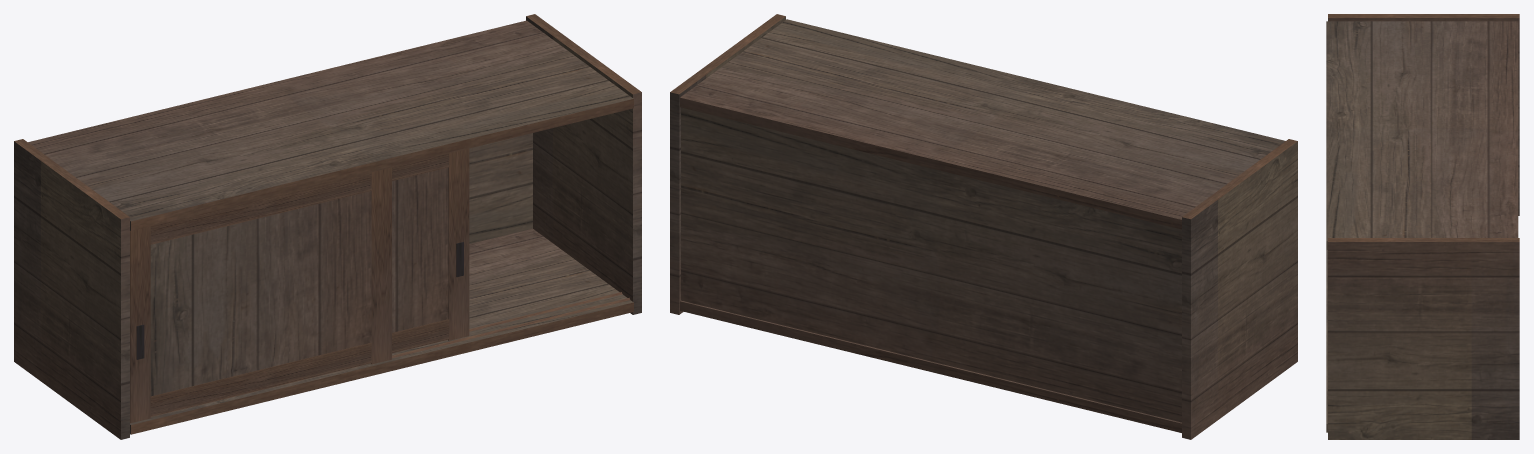
The model's file is jov_shelf04a.fbx.
The picture shows the model from 3 angles, left to right: view 1: azimuth 30°, elevation 25°; view 2: azimuth 150°, elevation 25°; view 3: azimuth 270°, elevation 25°; orthographic projection. The views are drawn at different scales.
Visible parts, largest first — view 1: jov_shelf04a; view 2: jov_shelf04a; view 3: jov_shelf04a.
Boxes of the visible parts, left/top/right/bottom form: jov_shelf04a: left=14, top=14, right=641, bottom=439; jov_shelf04a: left=670, top=14, right=1297, bottom=439; jov_shelf04a: left=1326, top=14, right=1519, bottom=439.
Bounding box in the file's own units: 142 × 57.55 × 50.97.
